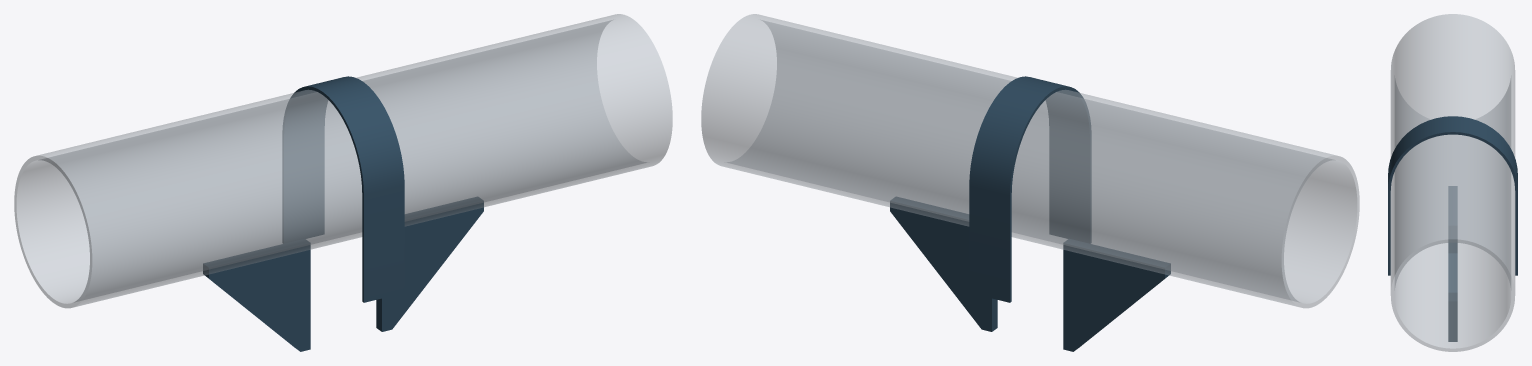
Rendered from TS-659.00.00-07-opora-dn133.glb.
3 views of the same model, side by side, from view 1: azimuth 30°, elevation 25°; view 2: azimuth 150°, elevation 25°; view 3: azimuth 270°, elevation 25° (orthographic). The views are drawn at different scales.
Parts seen in each view (by area): view 1: truba, homut, upor_2, upor_1; view 2: truba, homut, upor_2, upor_1; view 3: truba, homut, upor_1, upor_2.
Boxes of the visible parts, <box> form: truba: <box>14,14,672,308</box>; homut: <box>282,76,404,302</box>; upor_2: <box>203,239,310,351</box>; upor_1: <box>376,197,483,331</box>; truba: <box>701,14,1359,308</box>; homut: <box>969,76,1091,302</box>; upor_2: <box>1063,239,1170,351</box>; upor_1: <box>890,197,997,331</box>; truba: <box>1390,14,1515,351</box>; homut: <box>1388,116,1517,275</box>; upor_1: <box>1448,253,1457,341</box>; upor_2: <box>1448,186,1457,253</box>.
Bounding box in the file's own units: 570 × 236 × 139.
